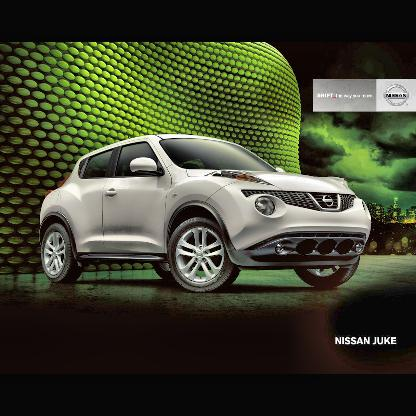Nissan Juke Hatchback 2012: (38, 131, 375, 297)
